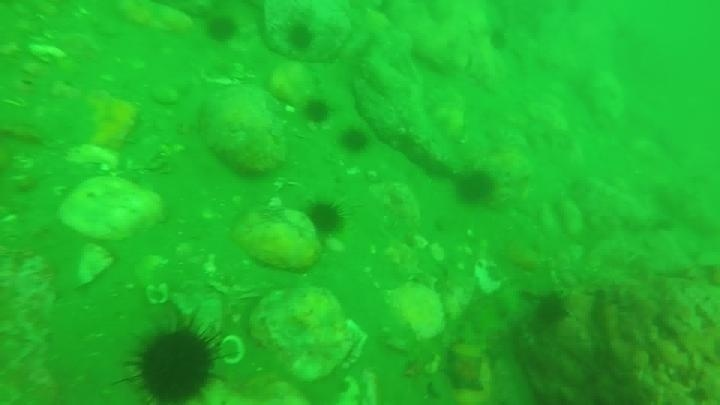echinus: (127, 322, 220, 403), (453, 168, 497, 206), (304, 199, 346, 238), (532, 292, 570, 328), (204, 14, 240, 45), (284, 22, 317, 53), (337, 126, 371, 155), (301, 97, 333, 126), (486, 27, 511, 53)
starfish: (440, 347, 490, 396)
